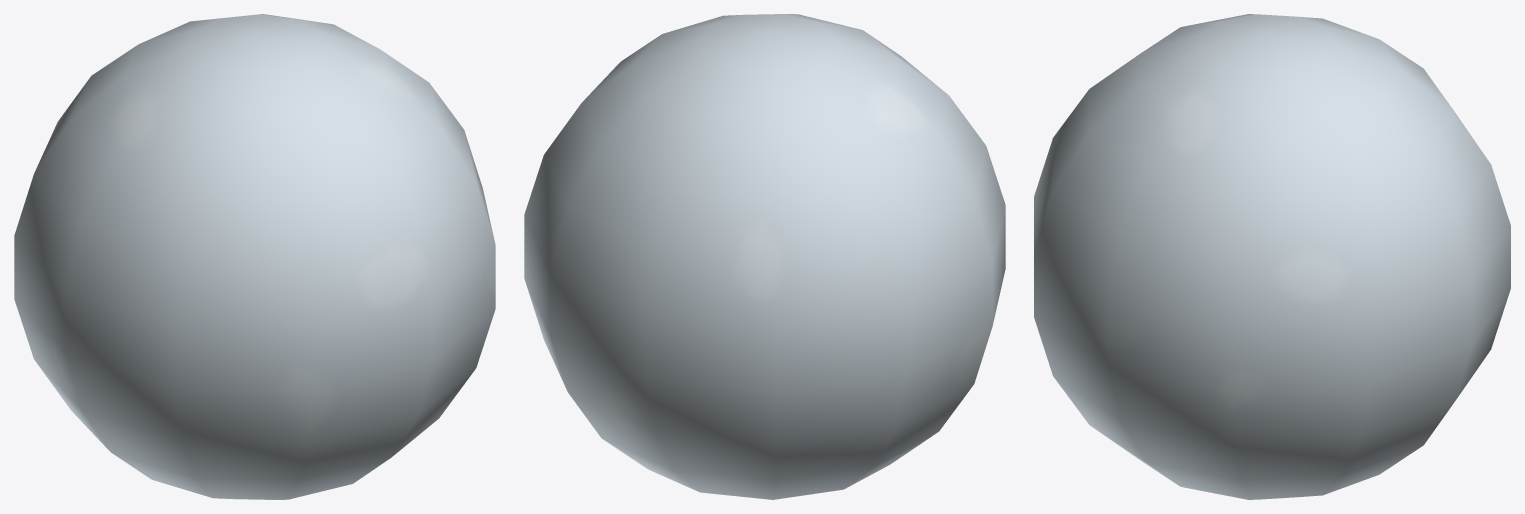
The model's file is snowball.fbx.
3 views of the same model, side by side, from view 1: azimuth 30°, elevation 25°; view 2: azimuth 150°, elevation 25°; view 3: azimuth 270°, elevation 25° (orthographic).
Parts seen in each view (by area): view 1: Snowball; view 2: Snowball; view 3: Snowball.
Part boxes in pixels (bbox=[...]): Snowball: bbox=[14, 14, 495, 499]; Snowball: bbox=[524, 14, 1005, 499]; Snowball: bbox=[1034, 14, 1510, 499].
Bounding box in the file's own units: 0.6449 × 0.6582 × 0.6384.
